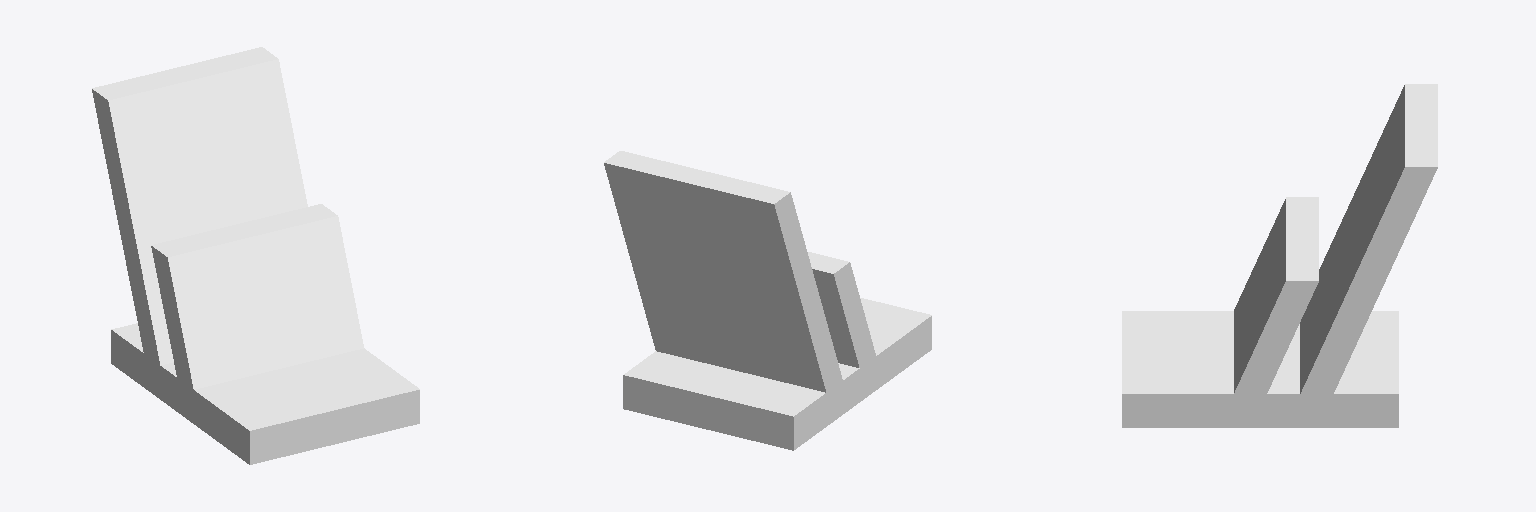
The model's file is MenuHolder.obj.
The picture shows the model from 3 angles: view 1: azimuth 30°, elevation 25°; view 2: azimuth 150°, elevation 25°; view 3: azimuth 270°, elevation 25°; orthographic projection.
Visible parts, largest first — view 1: Cube; view 2: Cube; view 3: Cube.
Boxes of the visible parts, x1=… form: Cube: x1=92, y1=47, x2=419, y2=464; Cube: x1=604, y1=151, x2=931, y2=450; Cube: x1=1122, y1=84, x2=1437, y2=427.
Bounding box in the file's own units: 0.1027 × 0.1501 × 0.165.